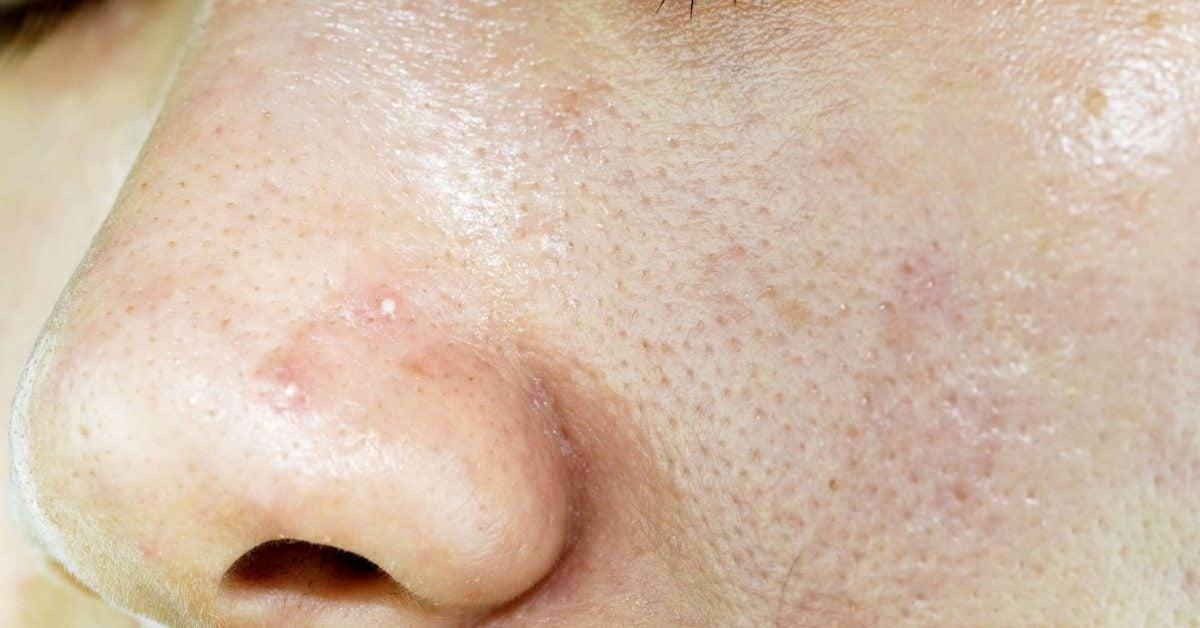Acne: (48, 47, 1097, 620)
Oily-Skin: (359, 55, 695, 326)
